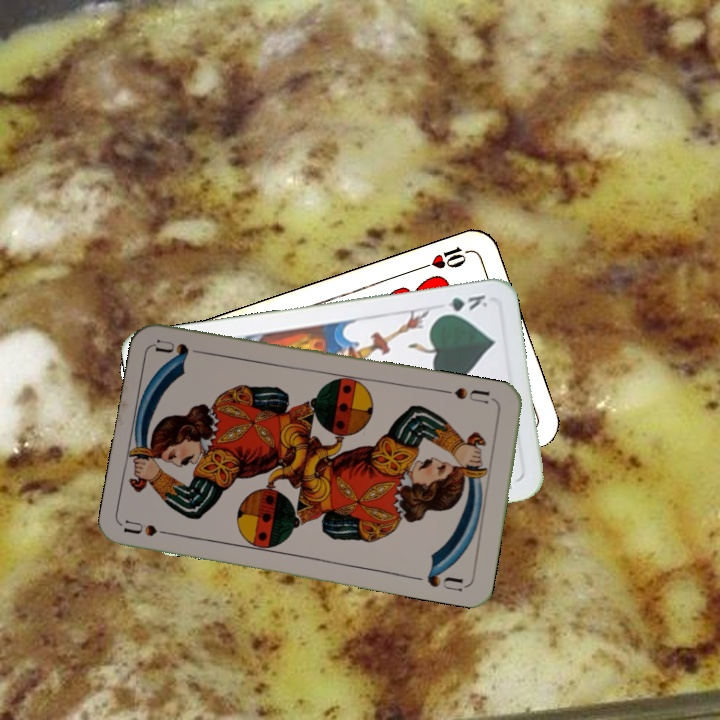GK: (434, 290, 490, 319)
H10: (416, 242, 474, 272)
SU: (122, 516, 181, 539), (450, 383, 492, 406)
